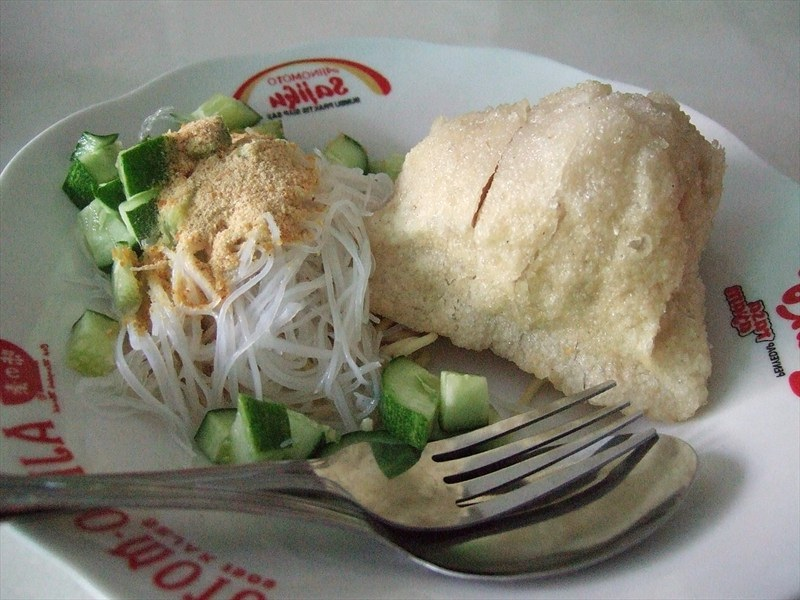Pempek: (67, 79, 683, 556)
